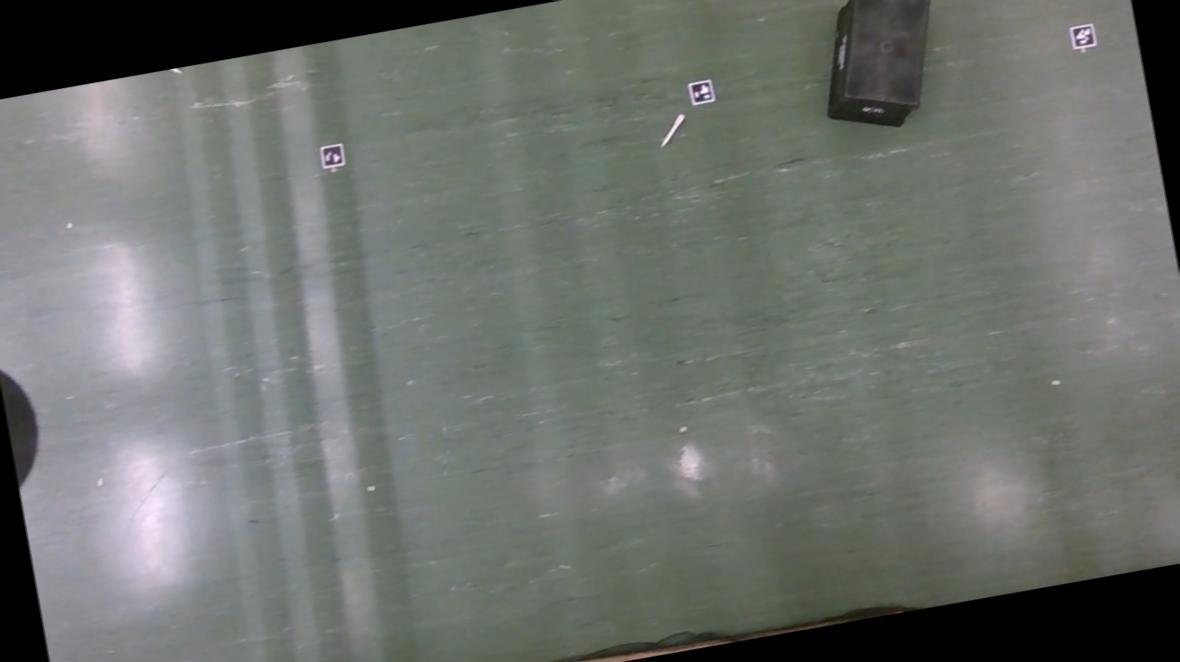probes: (658, 113, 688, 148), (156, 67, 182, 78)
rako: (806, 0, 951, 141)
